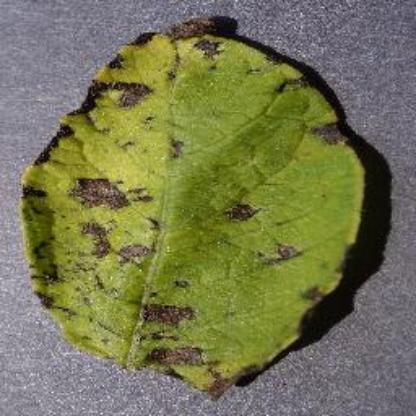Early-Blight: (18, 11, 378, 397)
